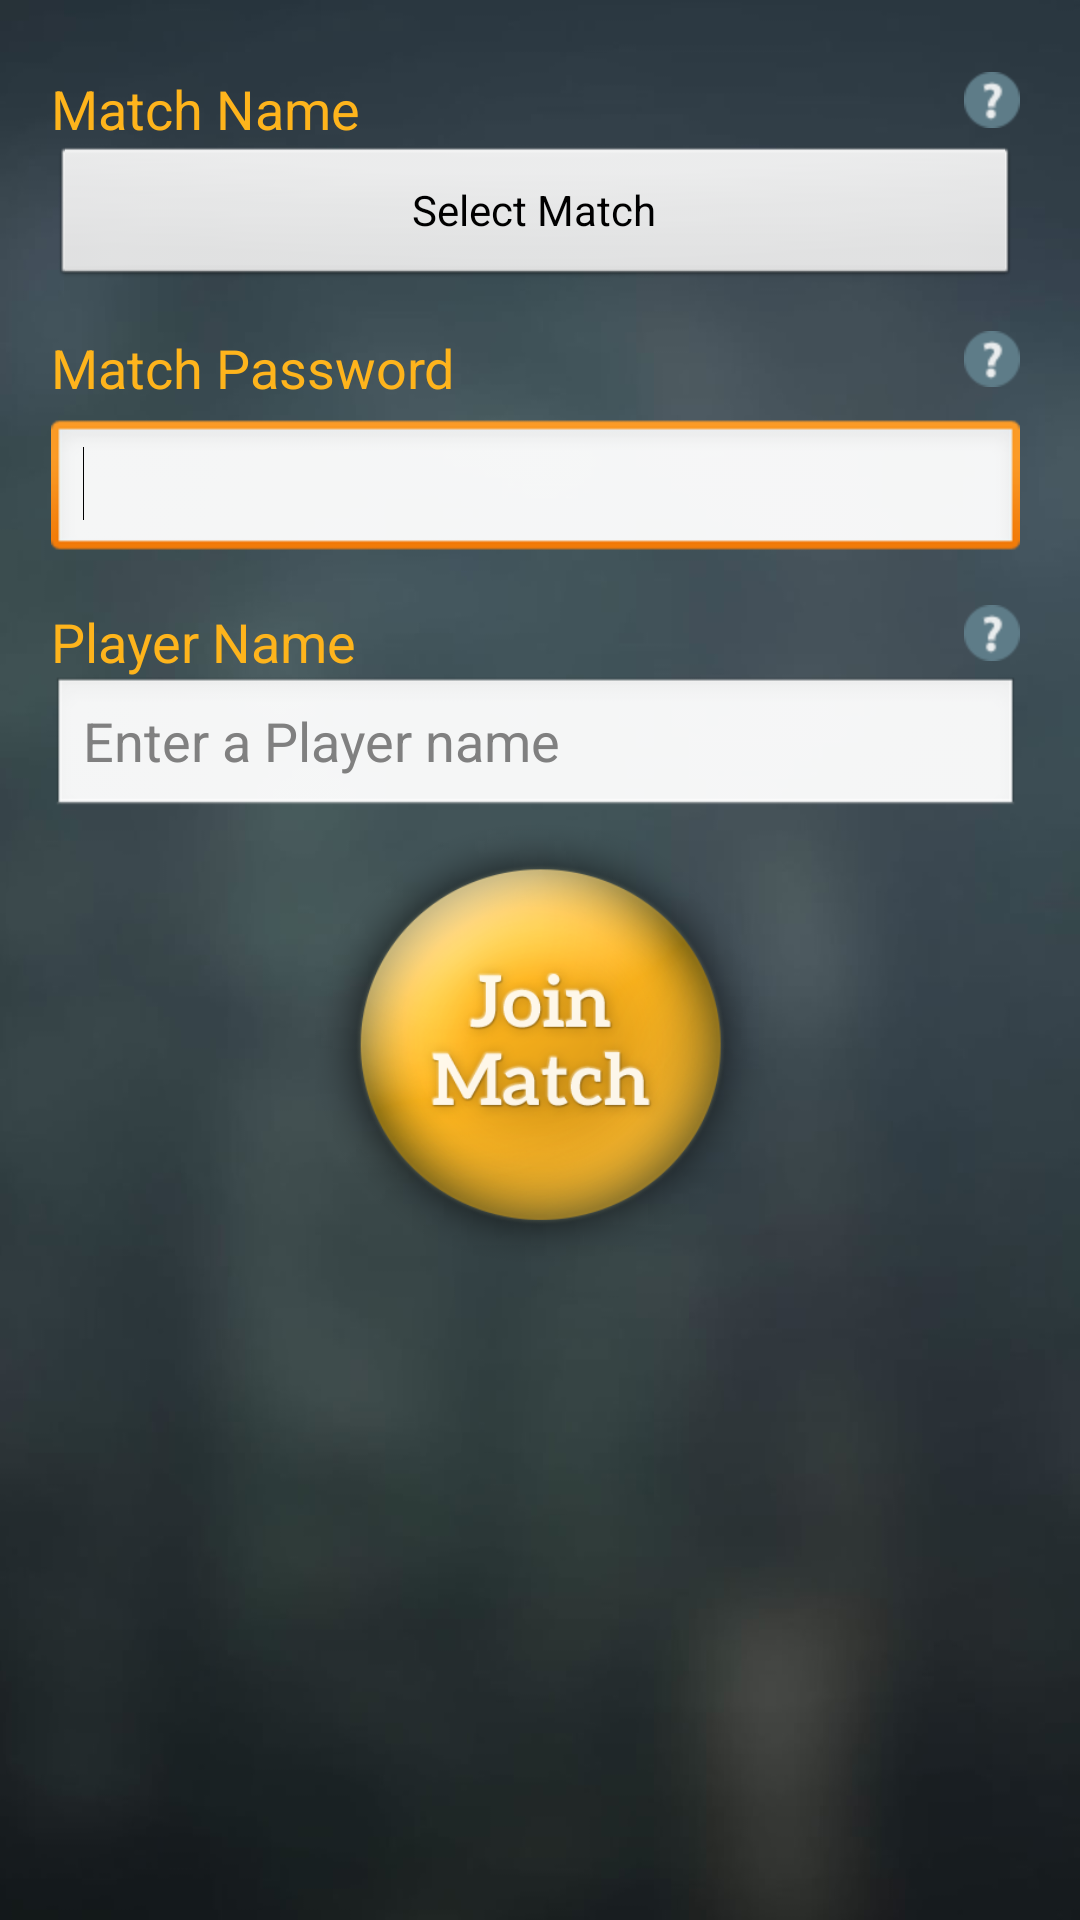

Icons on this 1080*1920 Android screen, each with its box as box=[x1, y1, x2, y2]:
help: box=[964, 72, 1020, 128], box=[964, 331, 1020, 387], box=[964, 605, 1020, 661]
